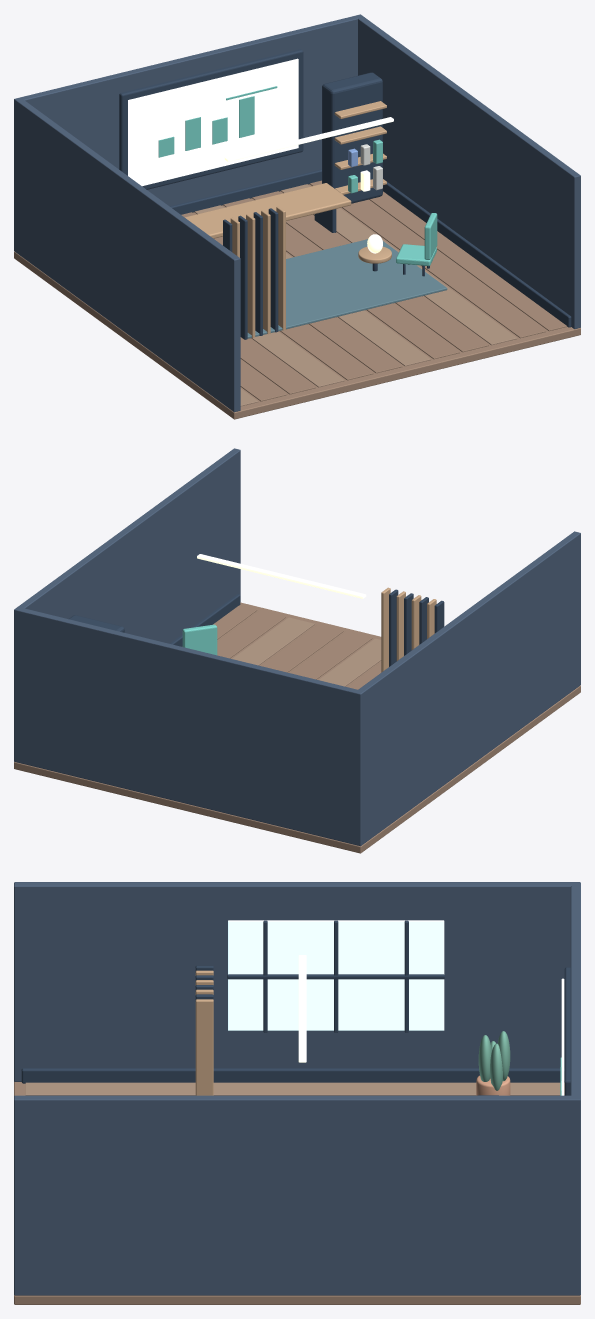
3 renders of one model, top to bottom at view 1: azimuth 30°, elevation 25°; view 2: azimuth 150°, elevation 25°; view 3: azimuth 270°, elevation 25°, orthographic. The views are drawn at different scales.
Visible parts, largest first — view 1: Personal_LeftWall, Personal_RightWall, Personal_BackWall, Personal_Workspace_Screen, Personal_Rug, Personal_Floor, Personal_ShelfBody, Personal_FloorPlank_10, Personal_Workspace_Frame, Personal_FloorPlank_11, Personal_DeskTop, Personal_FloorPlank_8 (+20 smaller); view 2: Personal_BackWall, Personal_LeftWall, Personal_RightWall, Personal_Floor, Personal_FloorPlank_7, Personal_FloorPlank_8, Personal_FloorPlank_9, Personal_FloorPlank_10, Personal_FloorPlank_6, Personal_CeilingLight, Personal_ReadingChair_Back, Personal_Slat_7 (+4 smaller); view 3: Personal_RightWall, Personal_LeftWall, Personal_Window, Personal_LeftBaseboard, Personal_FloorPlank_0, Personal_Floor, Personal_BackWall, Personal_Slat_7, Personal_WindowRail, Personal_CeilingLight, Personal_Workspace_Frame, Personal_WindowMullion_-0.62 (+2 smaller).
Boxes of the visible parts, left/top/right/bottom form: Personal_LeftWall: left=14, top=98, right=240, bottom=412; Personal_RightWall: left=356, top=15, right=580, bottom=329; Personal_BackWall: left=14, top=14, right=363, bottom=251; Personal_Workspace_Screen: left=128, top=58, right=298, bottom=186; Personal_Rug: left=247, top=239, right=447, bottom=338; Personal_Floor: left=14, top=184, right=580, bottom=419; Personal_ShelfBody: left=322, top=72, right=382, bottom=203; Personal_FloorPlank_10: left=310, top=180, right=546, bottom=338; Personal_Workspace_Frame: left=119, top=49, right=303, bottom=189; Personal_FloorPlank_11: left=369, top=191, right=567, bottom=331; Personal_DeskTop: left=185, top=183, right=351, bottom=238; Personal_FloorPlank_8: left=252, top=191, right=488, bottom=352; Personal_BackWall: left=14, top=607, right=364, bottom=846; Personal_LeftWall: left=354, top=531, right=580, bottom=844; Personal_RightWall: left=14, top=448, right=240, bottom=762; Personal_Floor: left=14, top=602, right=580, bottom=853; Personal_FloorPlank_7: left=290, top=631, right=372, bottom=679; Personal_FloorPlank_8: left=261, top=624, right=343, bottom=672; Personal_FloorPlank_9: left=232, top=617, right=314, bottom=665; Personal_FloorPlank_10: left=217, top=610, right=285, bottom=658; Personal_FloorPlank_6: left=319, top=638, right=381, bottom=686; Personal_CeilingLight: left=197, top=554, right=366, bottom=598; Personal_ReadingChair_Back: left=182, top=624, right=217, bottom=655; Personal_Slat_7: left=381, top=587, right=390, bottom=672; Personal_RightWall: left=14, top=1095, right=580, bottom=1295; Personal_LeftWall: left=14, top=882, right=579, bottom=1081; Personal_Window: left=228, top=920, right=444, bottom=1030; Personal_LeftBaseboard: left=21, top=1068, right=564, bottom=1083; Personal_FloorPlank_0: left=25, top=1082, right=564, bottom=1095; Personal_Floor: left=14, top=1082, right=580, bottom=1304; Personal_BackWall: left=570, top=882, right=580, bottom=1295; Personal_Slat_7: left=195, top=999, right=213, bottom=1095; Personal_WindowRail: left=227, top=974, right=444, bottom=979; Personal_CeilingLight: left=298, top=955, right=306, bottom=1062; Personal_Workspace_Frame: left=564, top=967, right=570, bottom=1095; Personal_WindowMullion_-0.62: left=263, top=920, right=267, bottom=1032.
Bounding box in the file's own units: 10 × 4.4 × 11.
